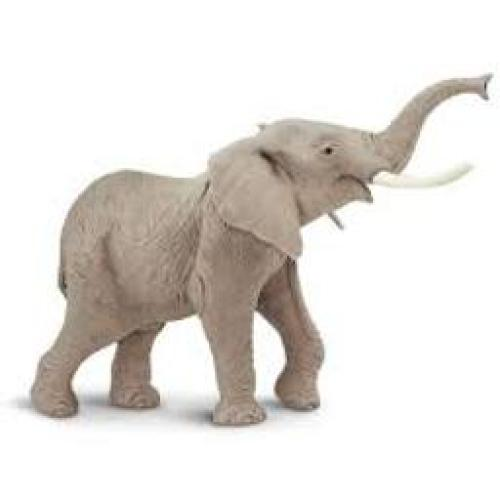african_elephant-endangered: (24, 75, 500, 434)
